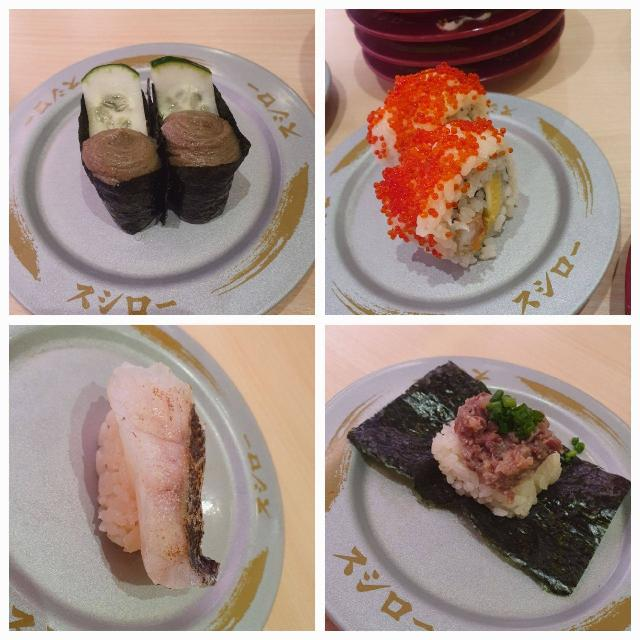janwhite: (18, 52, 319, 325), (320, 388, 640, 635), (333, 102, 626, 335)
